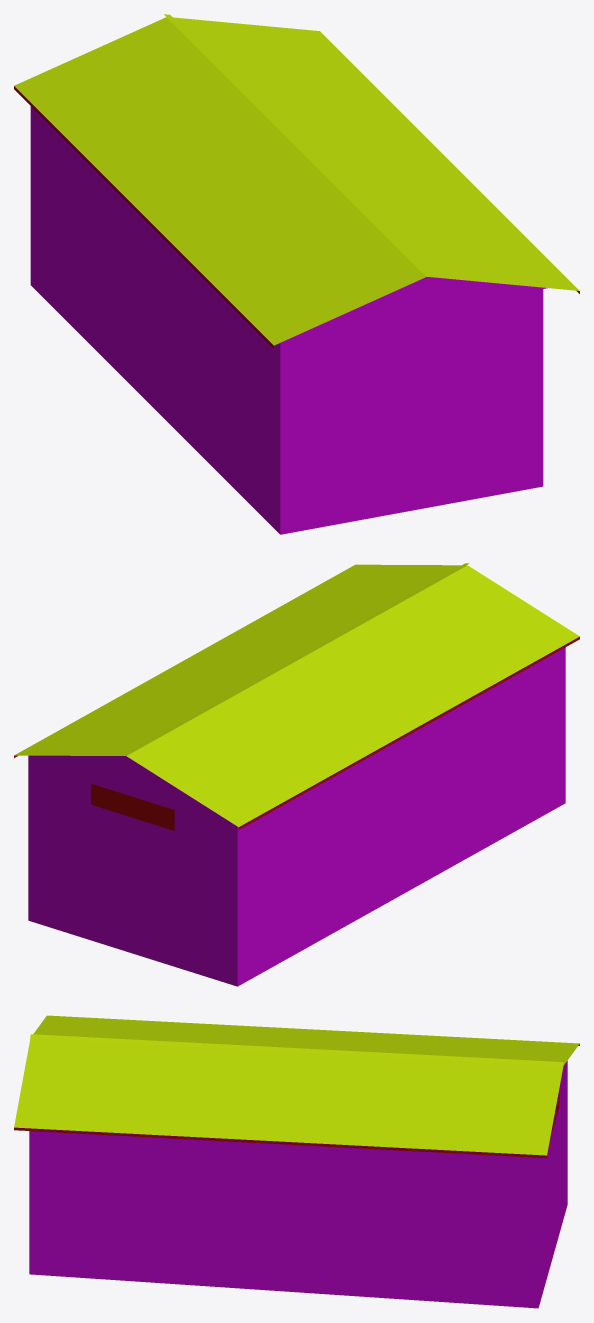
File: bgj_391.glb
3 views of the same model, one above another, from view 1: azimuth 30°, elevation 25°; view 2: azimuth 150°, elevation 25°; view 3: azimuth 270°, elevation 25° (orthographic). The views are drawn at different scales.
Parts seen in each view (by area): view 1: bgj_391; view 2: bgj_391; view 3: bgj_391.
Part boxes in pixels (box(x1,y1,x2,y2)): bgj_391: box(14, 14, 579, 534); bgj_391: box(14, 563, 579, 986); bgj_391: box(14, 1015, 579, 1308).
Size of the model in its own units: 13.56 by 8.74 by 23.15.
